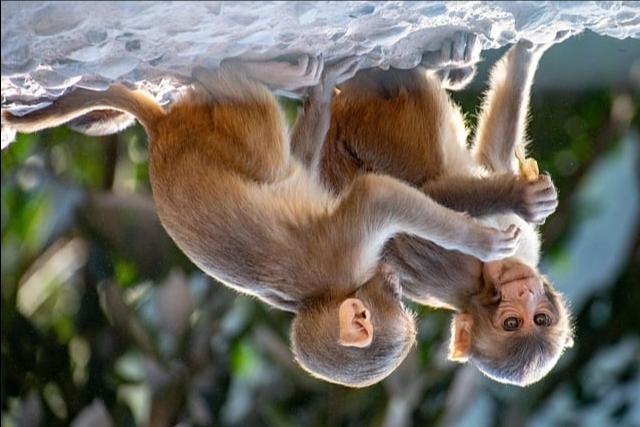Non_Gorille: (34, 44, 604, 413)
